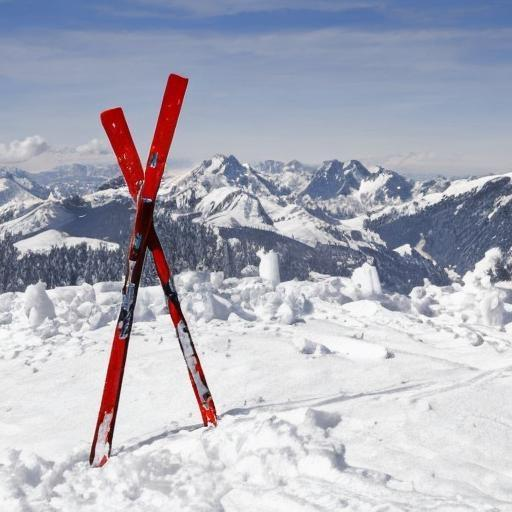Skis: (82, 60, 204, 476), (90, 100, 227, 436)
